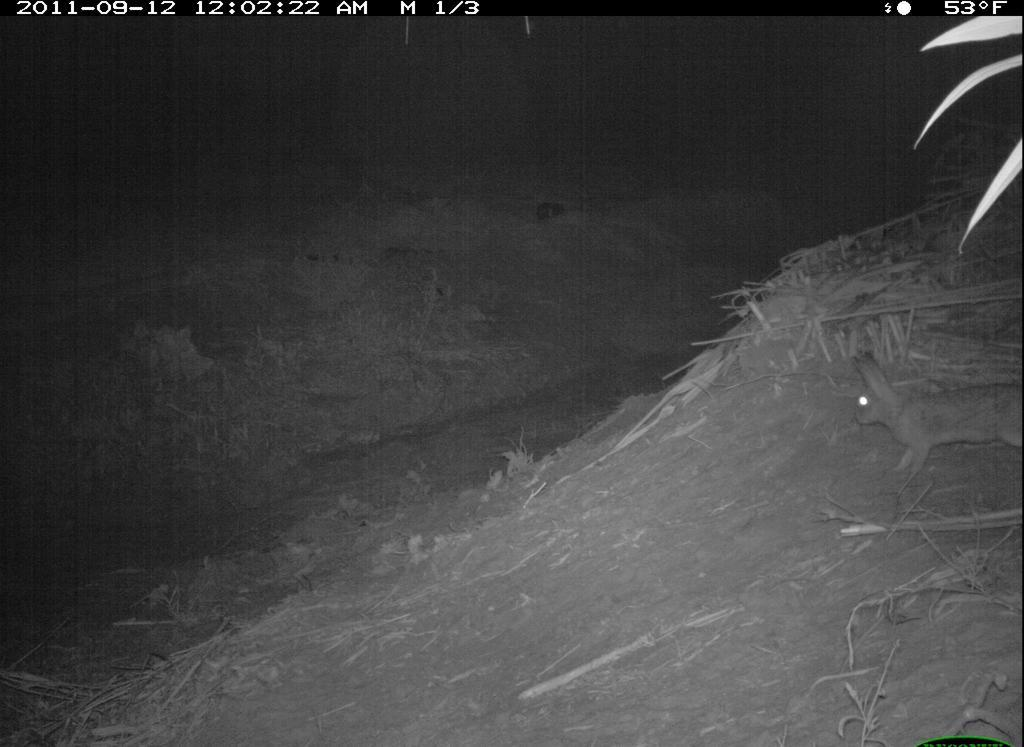rabbit: (837, 336, 1022, 490)
